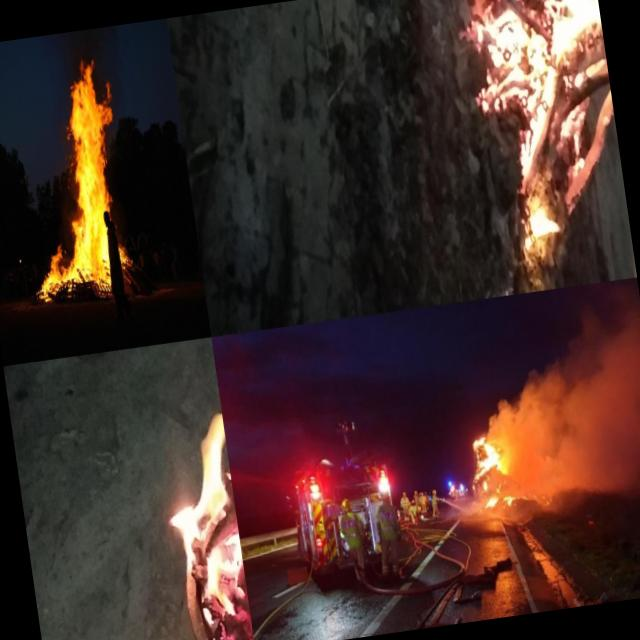fire: (151, 337, 256, 640), (8, 62, 138, 302), (464, 416, 520, 511)
smoke: (478, 295, 640, 505)
